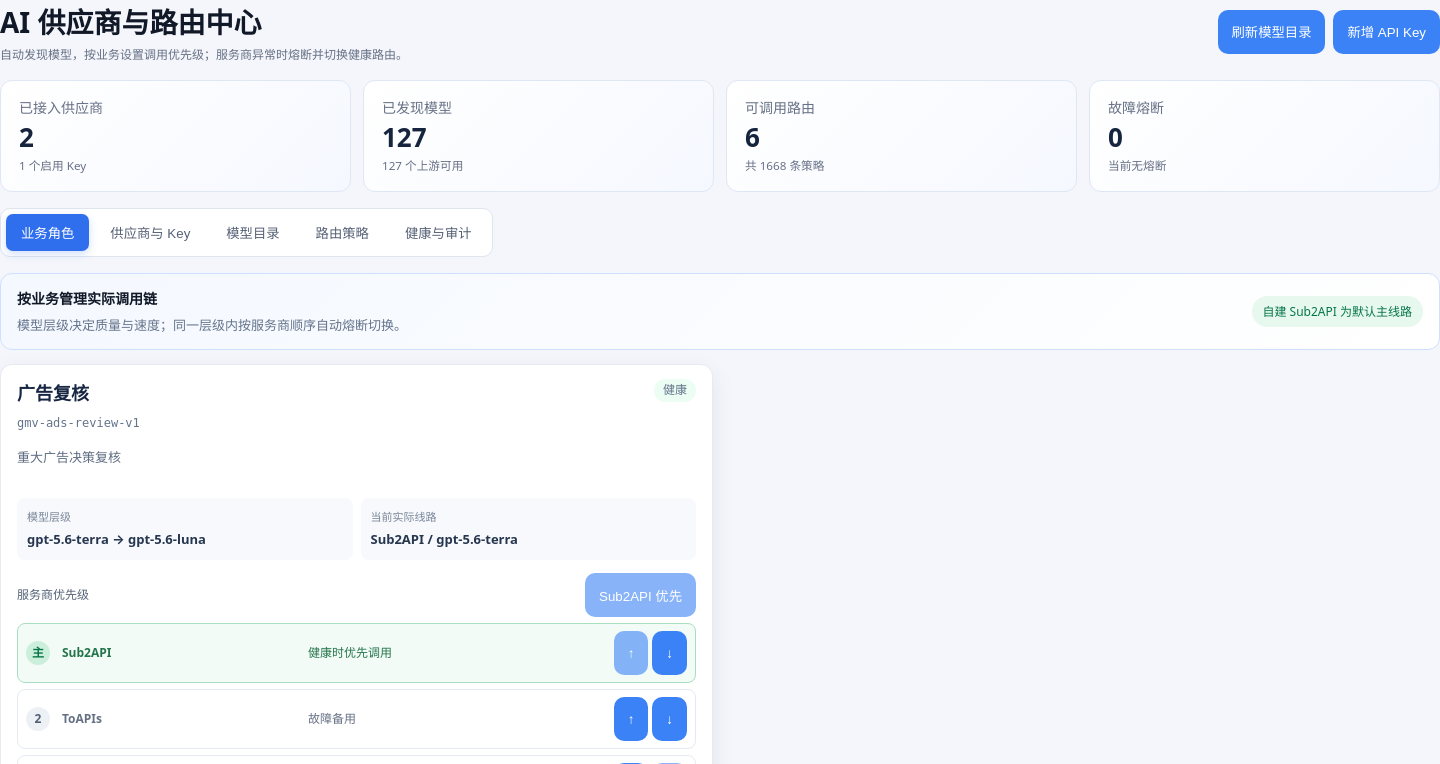
Test: PlatformAiProviderPage › renders real route health and every professional workspace
Check: the heading "AI 供应商与路由中心" is shown, box [0,3,262,41]
Check: the text "127" is shown, box [382,119,427,155]
Click the button "供应商与 Key".
click(150, 233)  # box [95,214,205,251]
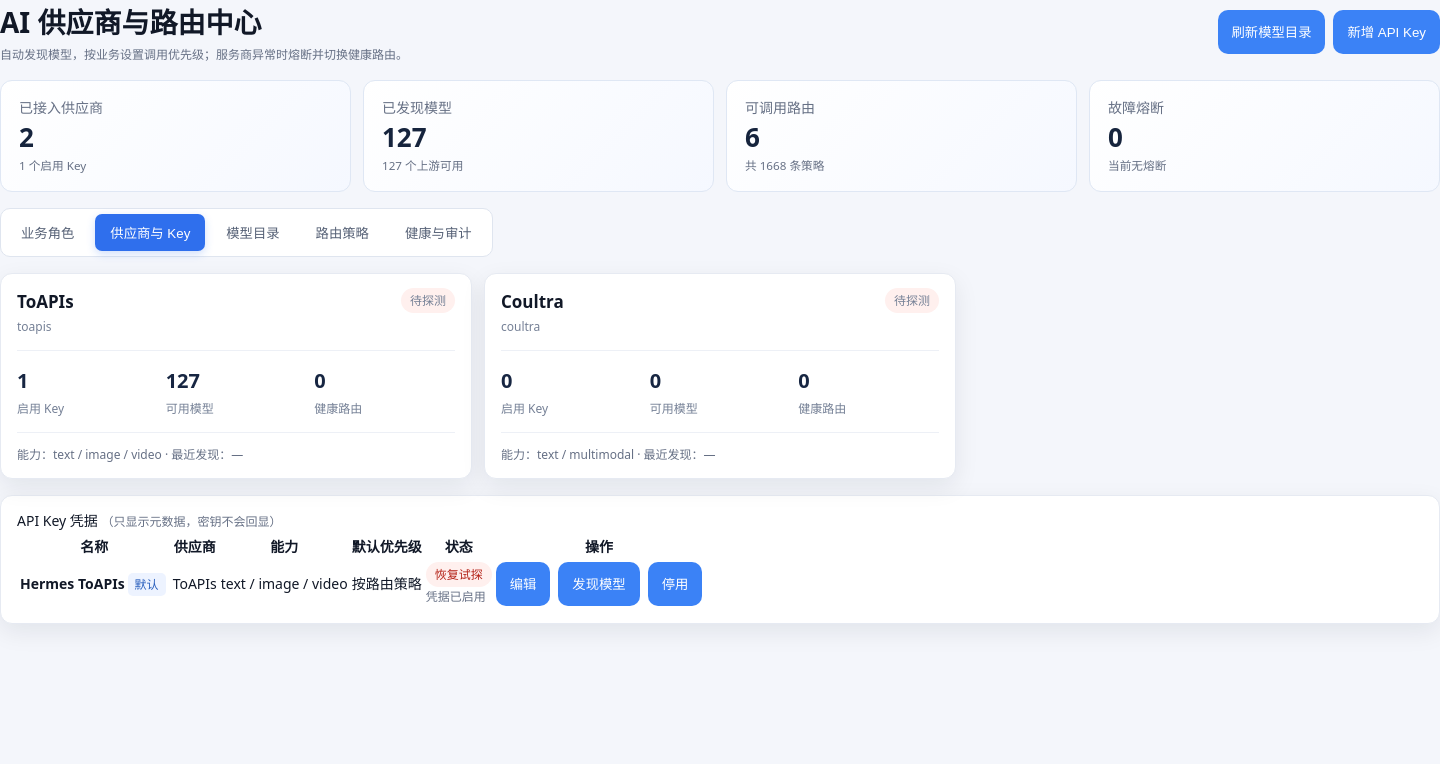
Check: the text "恢复试探" is shown, box [426,562,492,587]
Click the button "模型目录".
click(253, 233)  # box [211,214,295,251]
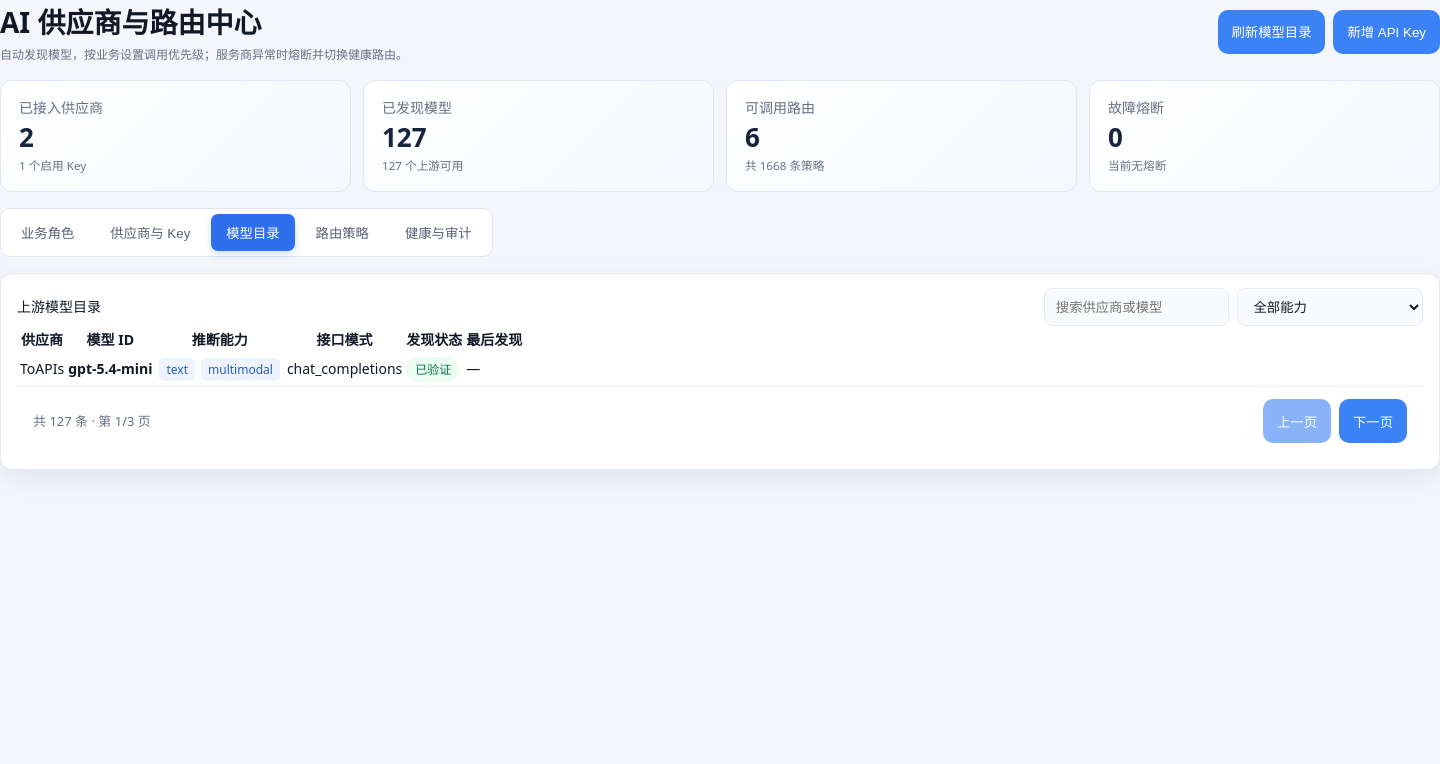
Check: the text "gpt-5.4-mini" is shown, box [68,359,152,378]
Check: the text "已验证" is shown, box [406,357,460,382]
Click the button "路由策略".
click(342, 233)  # box [301,214,384,251]
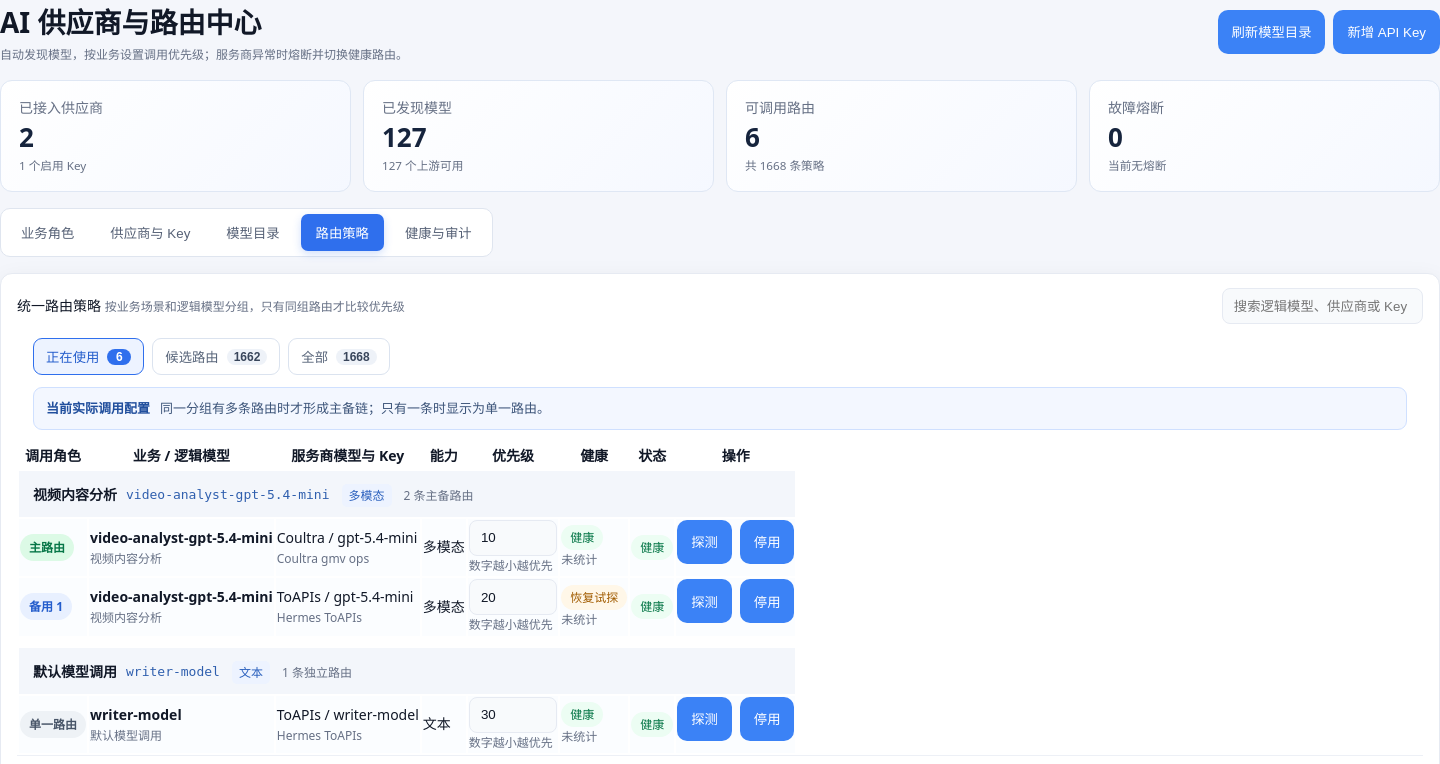
Check: the text "主路由" is shown, box [20,534,74,561]
Check: the text "备用 1" is shown, box [20,593,72,620]
Check: the text "单一路由" is shown, box [20,711,86,738]
Click the button "健康与审计".
click(438, 233)  # box [390,214,486,251]
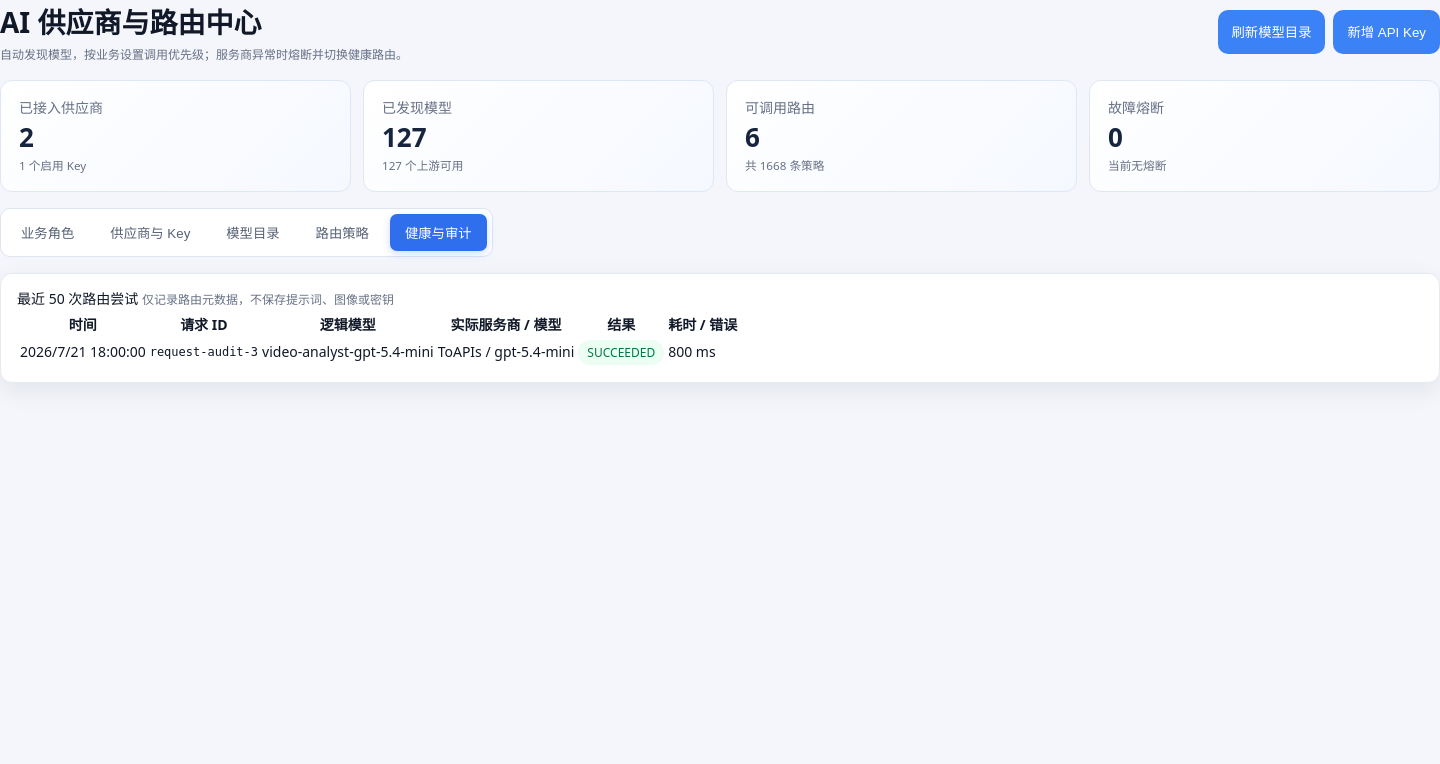
Check: the text "request-audit-3" is shown, box [149,339,259,366]
Check: the text "800 ms" is shown, box [667,339,738,366]
